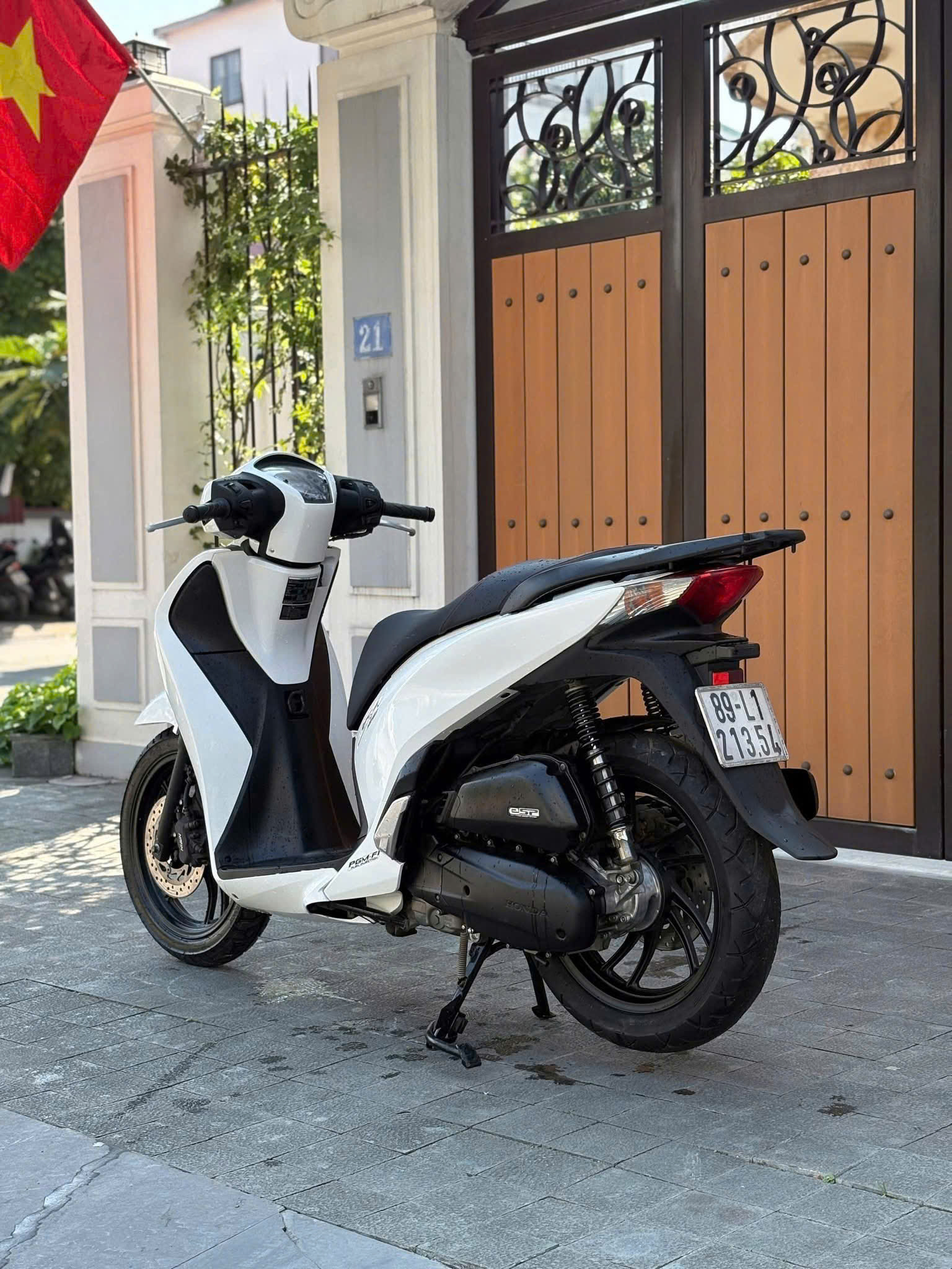Bien-so: (694, 669, 801, 771)
